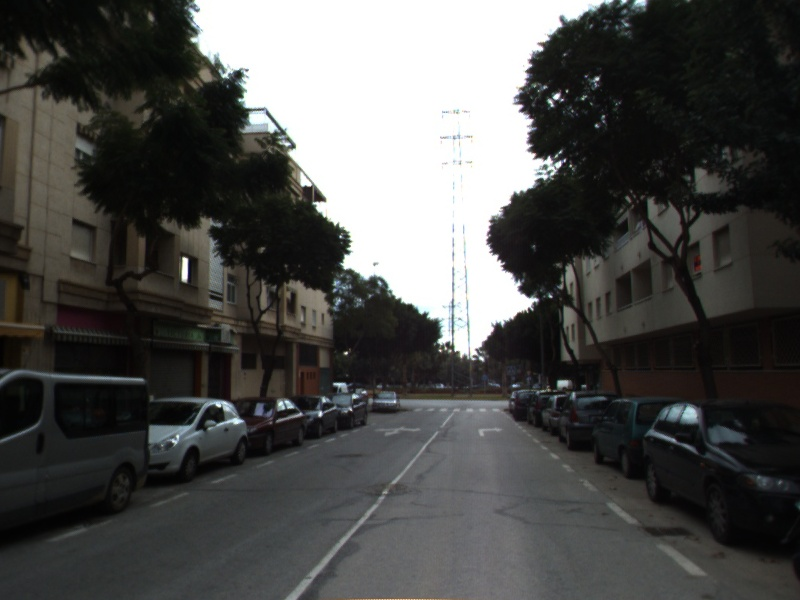RIGHT: (476, 424, 506, 438)
